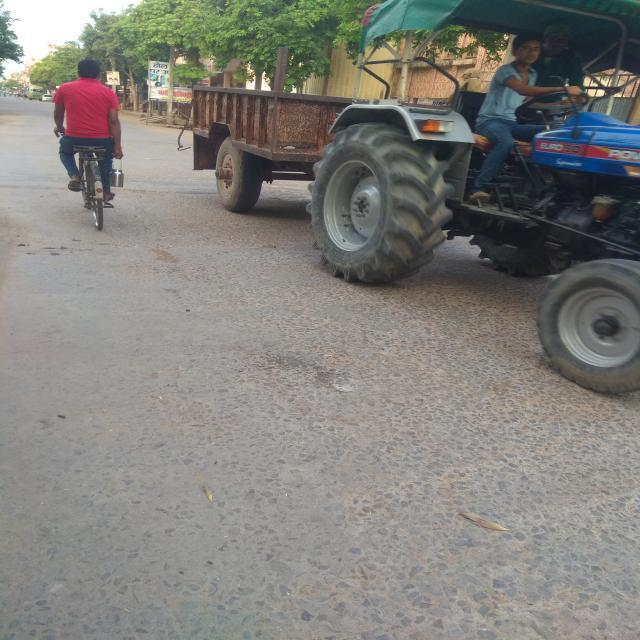tractor_front: (171, 0, 639, 399)
